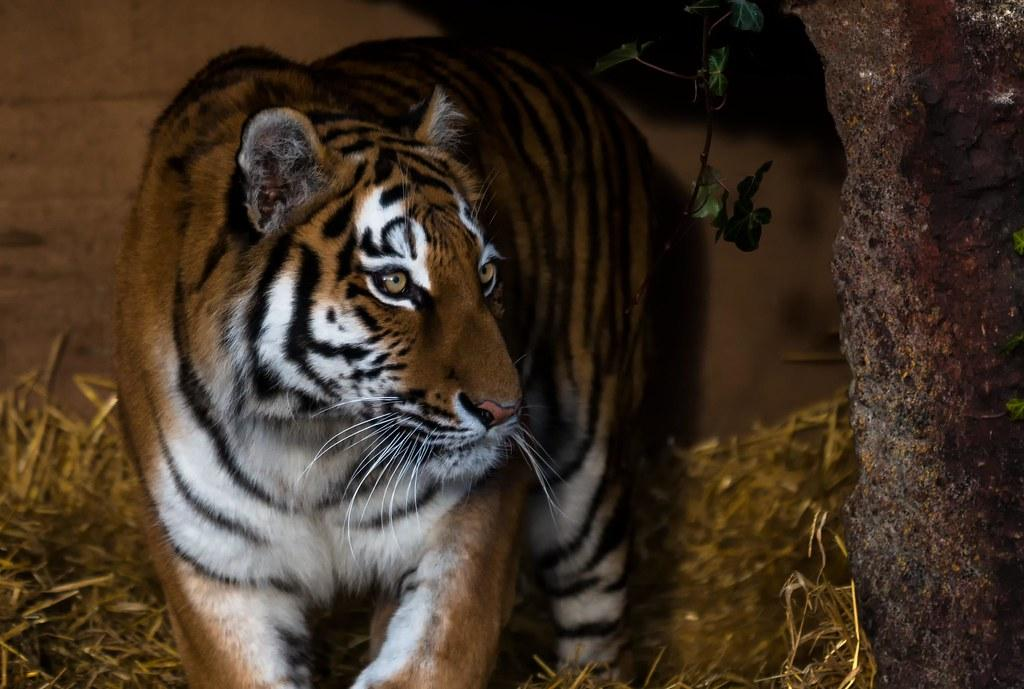tiger: (111, 34, 660, 688)
